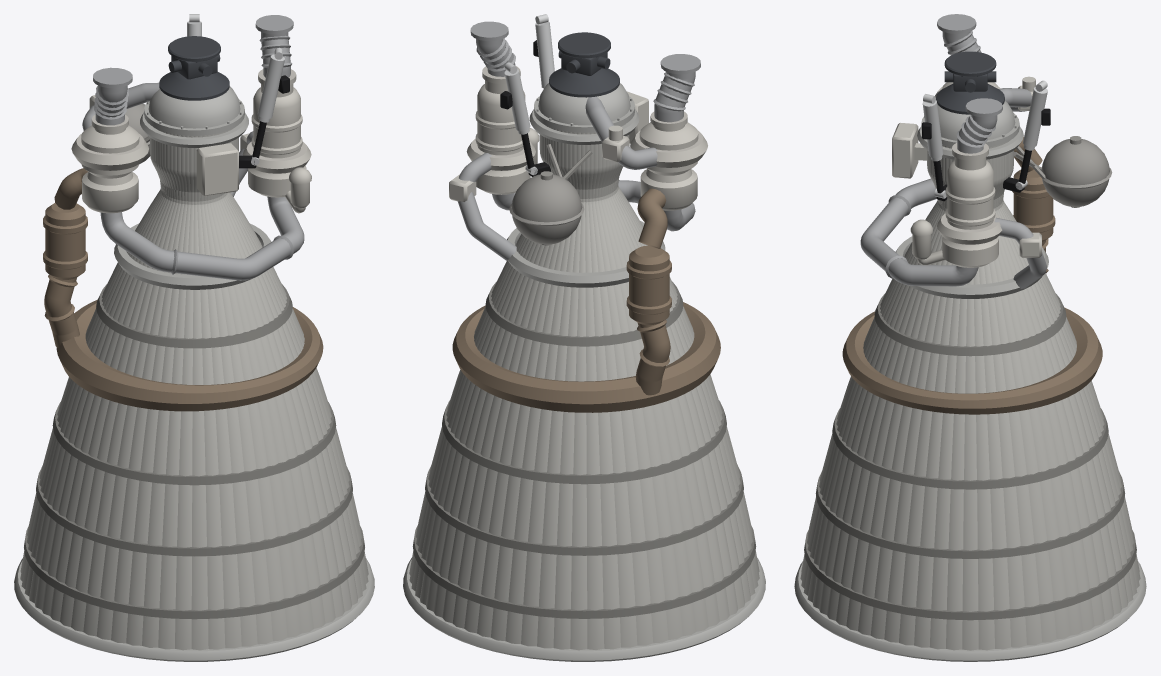
The picture shows the model from 3 angles, left to right: view 1: azimuth 30°, elevation 25°; view 2: azimuth 150°, elevation 25°; view 3: azimuth 270°, elevation 25°; orthographic projection. The views are drawn at different scales.
Visible parts, largest first — view 1: H2_TubeWallNozzle, H2_TurbineExhaust, H2_HatBands, H2_Turbopumps, H2_PropellantDucts, H2_Manifolds, H2_LoxDome, H2_GimbalBlock, H2_ValvesAndStartTank, H2_Actuators; view 2: H2_TubeWallNozzle, H2_TurbineExhaust, H2_HatBands, H2_Turbopumps, H2_PropellantDucts, H2_Manifolds, H2_ValvesAndStartTank, H2_GimbalBlock, H2_LoxDome, H2_Actuators; view 3: H2_TubeWallNozzle, H2_HatBands, H2_TurbineExhaust, H2_PropellantDucts, H2_Manifolds, H2_Turbopumps, H2_ValvesAndStartTank, H2_Actuators, H2_GimbalBlock, H2_LoxDome.
Boxes of the visible parts, <box> form: H2_TubeWallNozzle: <box>20,127,368,650</box>; H2_TurbineExhaust: <box>43,168,323,411</box>; H2_HatBands: <box>24,284,364,619</box>; H2_Turbopumps: <box>71,69,311,213</box>; H2_PropellantDucts: <box>82,15,304,280</box>; H2_Manifolds: <box>14,113,374,661</box>; H2_LoxDome: <box>144,86,244,135</box>; H2_GimbalBlock: <box>159,36,229,100</box>; H2_ValvesAndStartTank: <box>89,87,249,196</box>; H2_Actuators: <box>187,14,289,168</box>; H2_TubeWallNozzle: <box>409,123,759,650</box>; H2_TurbineExhaust: <box>452,188,720,412</box>; H2_HatBands: <box>412,281,756,618</box>; H2_Turbopumps: <box>466,66,707,210</box>; H2_PropellantDucts: <box>457,21,700,260</box>; H2_Manifolds: <box>403,109,765,661</box>; H2_ValvesAndStartTank: <box>449,91,648,245</box>; H2_GimbalBlock: <box>549,32,619,97</box>; H2_LoxDome: <box>534,83,634,132</box>; H2_Actuators: <box>500,14,554,176</box>; H2_TubeWallNozzle: <box>800,140,1140,650</box>; H2_HatBands: <box>804,294,1136,620</box>; H2_TurbineExhaust: <box>842,137,1102,414</box>; H2_PropellantDucts: <box>860,14,1046,288</box>; H2_Manifolds: <box>794,126,1146,661</box>; H2_Turbopumps: <box>910,82,1002,267</box>; H2_ValvesAndStartTank: <box>892,76,1112,257</box>; H2_Actuators: <box>922,80,1050,201</box>; H2_GimbalBlock: <box>936,51,1004,114</box>; H2_LoxDome: <box>921,101,1019,147</box>.
Bounding box in the file's own units: 2.04 × 3.38 × 2.04.
